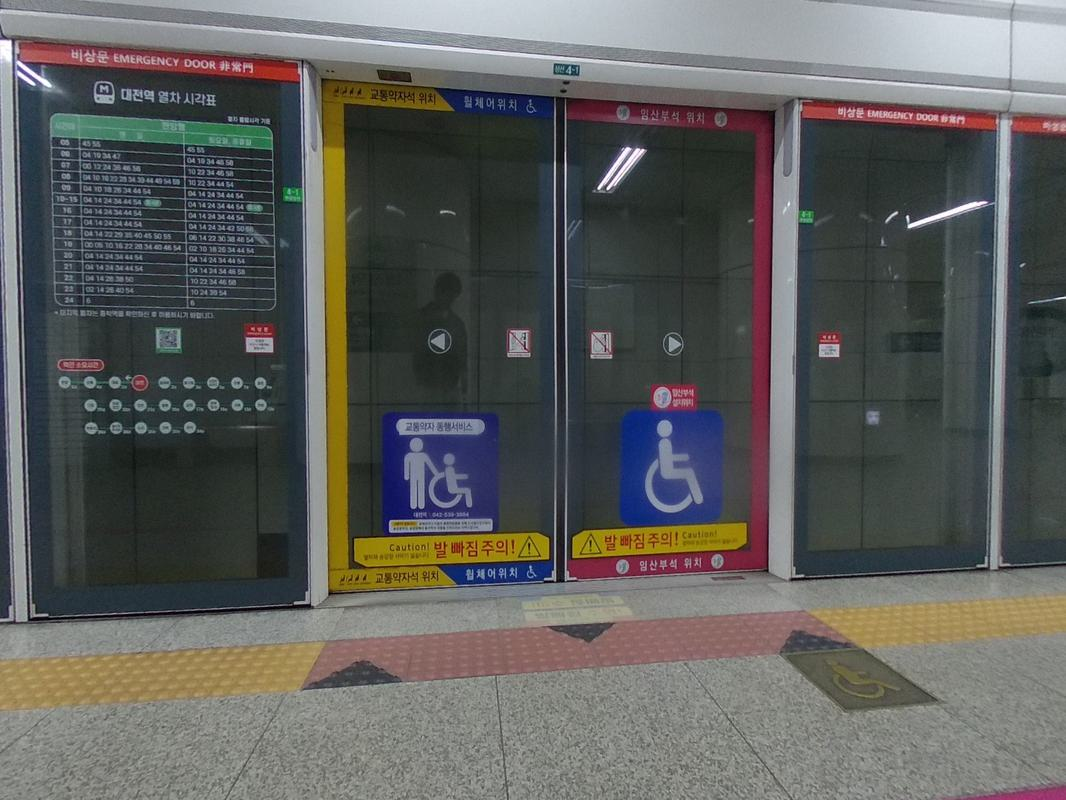bicycle: (640, 417, 707, 514)
bike: (640, 407, 707, 514)
building: (9, 0, 1039, 491), (188, 42, 886, 554)
closed door: (327, 78, 558, 598), (560, 90, 770, 584)
door: (316, 77, 778, 603), (327, 88, 558, 598), (560, 100, 770, 584)
doorway: (316, 67, 778, 603)
elevator: (316, 57, 778, 603)
elevator door: (791, 78, 997, 576)
glass door: (791, 97, 998, 576)
man: (407, 258, 469, 396)
person: (407, 268, 469, 396)
screen door: (791, 108, 997, 576)
subway screen door: (791, 88, 997, 576)
subway station: (6, 5, 1054, 783)
